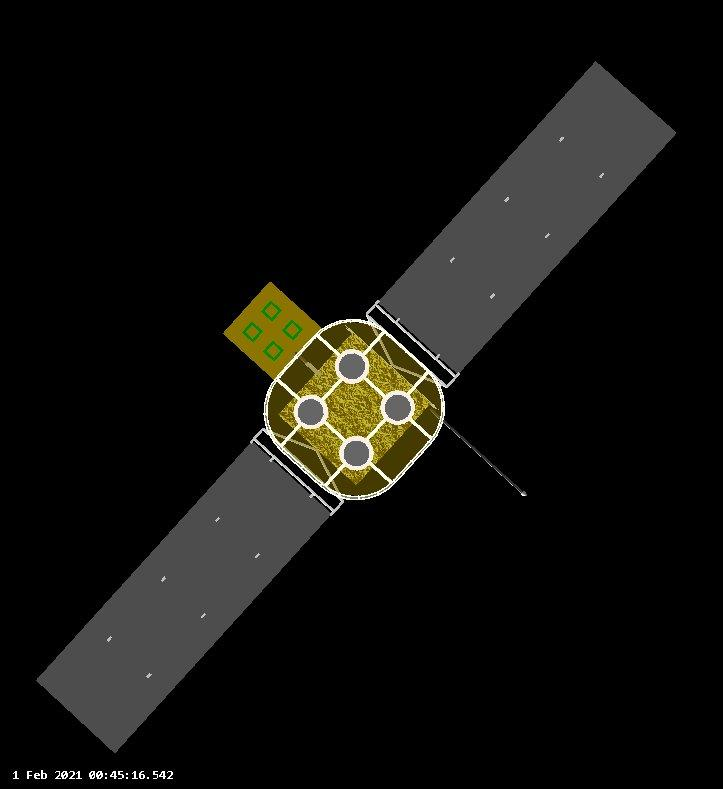antenna: (426, 403, 530, 501), (292, 393, 328, 430), (339, 436, 374, 469), (380, 392, 413, 425), (335, 349, 367, 382)
body: (262, 319, 449, 505)
solar: (365, 54, 681, 388), (36, 425, 350, 759)
